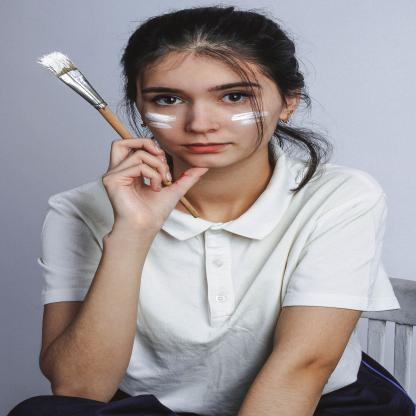Eye: (147, 91, 188, 109), (216, 90, 259, 106)
Mouth: (182, 138, 236, 156)
Nose: (182, 98, 219, 134)
